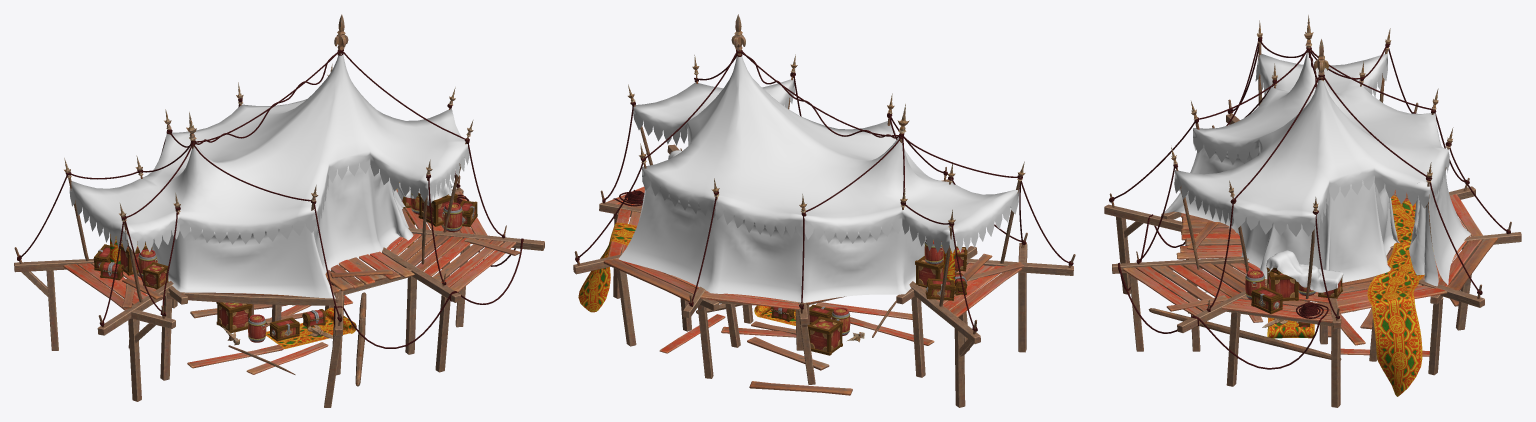
The model's file is tent_tutorial.fbx.
3 renders of one model, left to right at view 1: azimuth 30°, elevation 25°; view 2: azimuth 150°, elevation 25°; view 3: azimuth 270°, elevation 25°, orthographic. The views are drawn at different scales.
Parts seen in each view (by area): view 1: Tent_tutorial, props_LOW; view 2: Tent_tutorial, props_LOW; view 3: Tent_tutorial, props_LOW.
Boxes of the visible parts, box(x1,y1,x2,y2) form: Tent_tutorial: box(20, 49, 523, 348); props_LOW: box(14, 14, 544, 407); Tent_tutorial: box(578, 50, 1069, 326); props_LOW: box(573, 14, 1075, 407); Tent_tutorial: box(1113, 37, 1506, 396); props_LOW: box(1104, 15, 1521, 407).
Bounding box in the file's own units: 1468 × 1782 × 1208.
